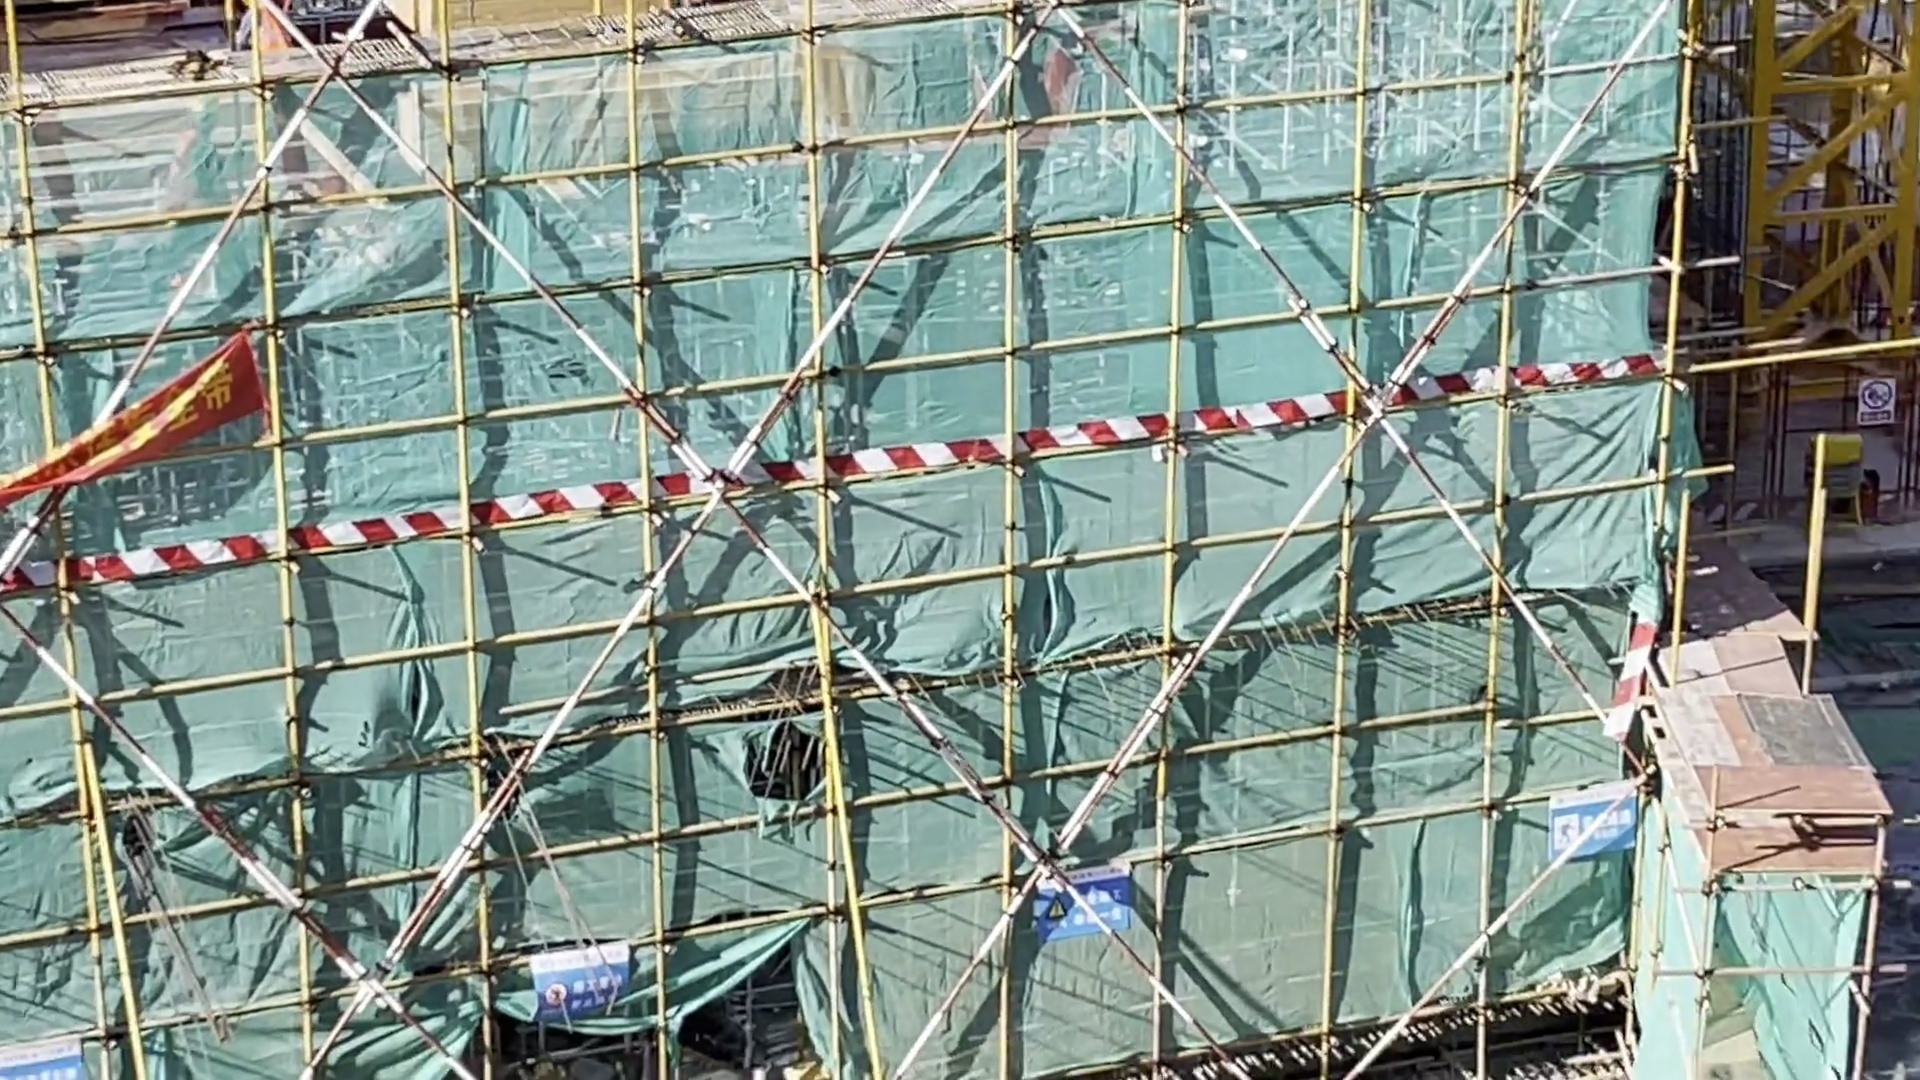slogan: (11, 338, 276, 484), (518, 928, 637, 1031), (1025, 856, 1133, 949), (1548, 775, 1644, 872)
